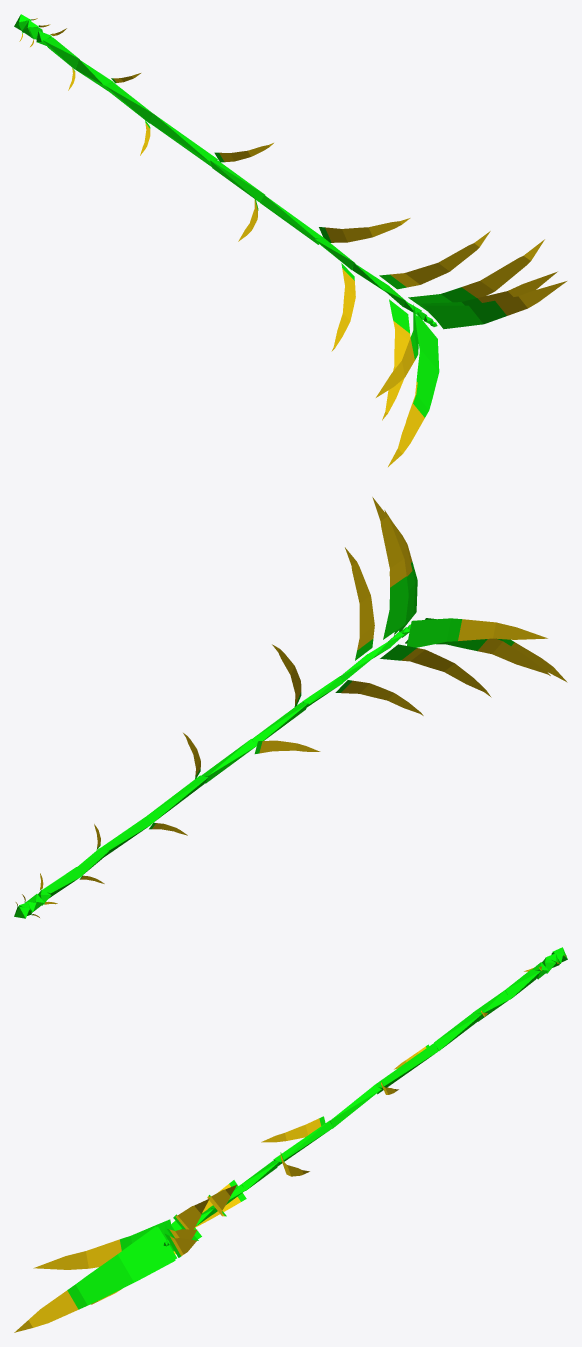
The model's file is usm_12_2.5D_2018-09-24_8.obj.
3 views of the same model, one above another, from view 1: azimuth 30°, elevation 25°; view 2: azimuth 150°, elevation 25°; view 3: azimuth 330°, elevation 25° (orthographic). The views are drawn at different scales.
Parts seen in each view (by area): view 1: vid_42, vid_40, vid_10000028, vid_10000032, vid_10000024, vid_10000040, vid_19, vid_10000030, vid_10000026, vid_10000042, vid_23, vid_32 (+4 smaller); view 2: vid_34, vid_10000034, vid_10000028, vid_10000030, vid_10000032, vid_32, vid_10000038, vid_10000026, vid_19, vid_21, vid_23, vid_17; view 3: vid_42, vid_10000034, vid_10000042, vid_19, vid_23, vid_17, vid_10000022, vid_21, vid_10000032.
Part boxes in pixels (x1,y1,x2,y2): vid_42: (413, 314, 439, 417); vid_40: (425, 300, 506, 329); vid_10000028: (390, 231, 490, 287); vid_10000032: (461, 239, 544, 297); vid_10000024: (325, 218, 410, 242); vid_10000040: (495, 281, 566, 315); vid_19: (149, 114, 217, 166); vid_10000030: (382, 321, 410, 420); vid_10000026: (331, 268, 355, 351); vid_10000042: (388, 404, 424, 466); vid_23: (260, 195, 321, 244); vid_32: (408, 287, 476, 311); vid_34: (407, 618, 462, 647); vid_10000034: (458, 619, 547, 640); vid_10000028: (345, 547, 374, 650); vid_10000030: (401, 648, 491, 697); vid_10000032: (372, 497, 406, 587); vid_32: (383, 576, 408, 639); vid_10000038: (477, 638, 550, 675); vid_10000026: (341, 680, 423, 715); vid_19: (147, 775, 208, 823); vid_21: (201, 739, 256, 783); vid_23: (252, 702, 308, 745); vid_17: (101, 815, 151, 856); vid_42: (67, 1226, 175, 1309); vid_10000034: (33, 1239, 121, 1269); vid_10000042: (14, 1290, 78, 1332); vid_19: (374, 1042, 438, 1094); vid_23: (273, 1120, 332, 1165); vid_17: (434, 1012, 481, 1050); vid_10000022: (261, 1118, 320, 1142); vid_21: (330, 1085, 381, 1128); vid_10000032: (175, 1198, 209, 1229).
Bounding box in the file's own units: 64.58 × 55.64 × 282.
